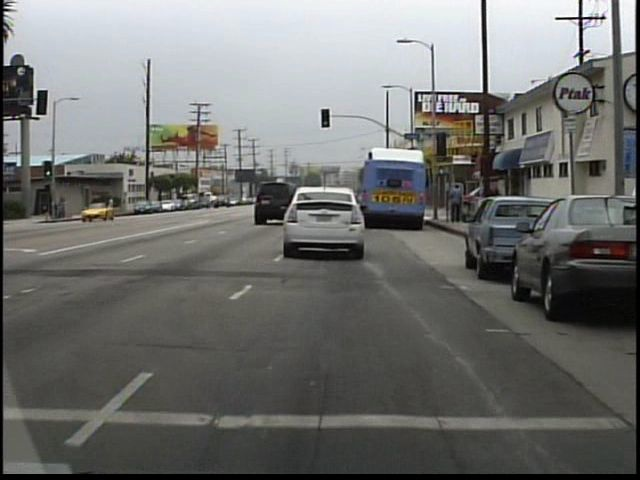person: (445, 182, 464, 225), (107, 193, 120, 217)
